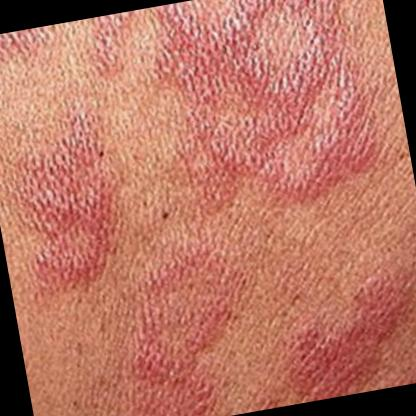Leprosy: (85, 0, 401, 235), (94, 230, 265, 416), (0, 85, 134, 303), (267, 258, 416, 405)
